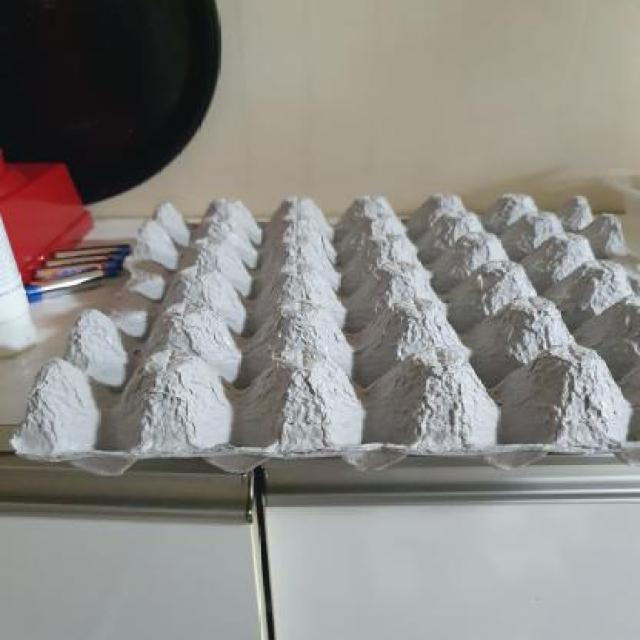box: (0, 158, 638, 518)
